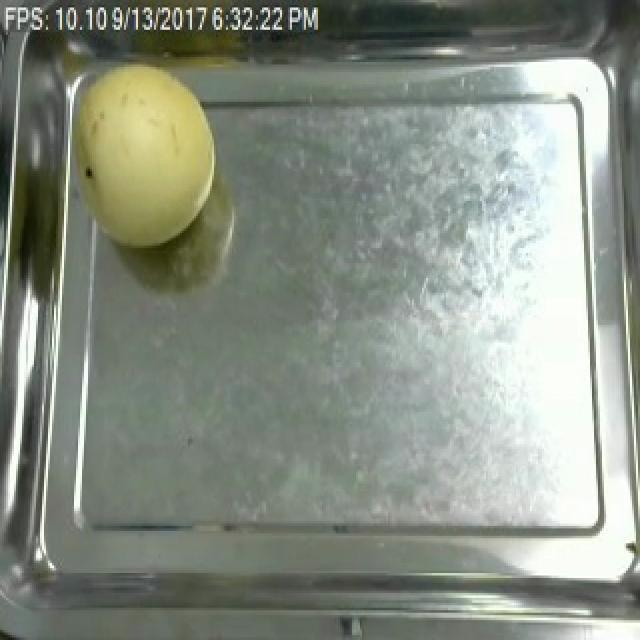Fruit: (56, 49, 224, 256)
